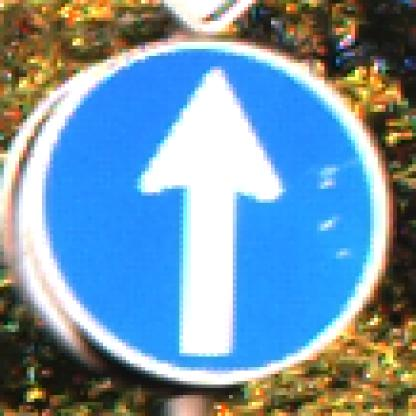AheadOnly: (35, 39, 383, 382)
